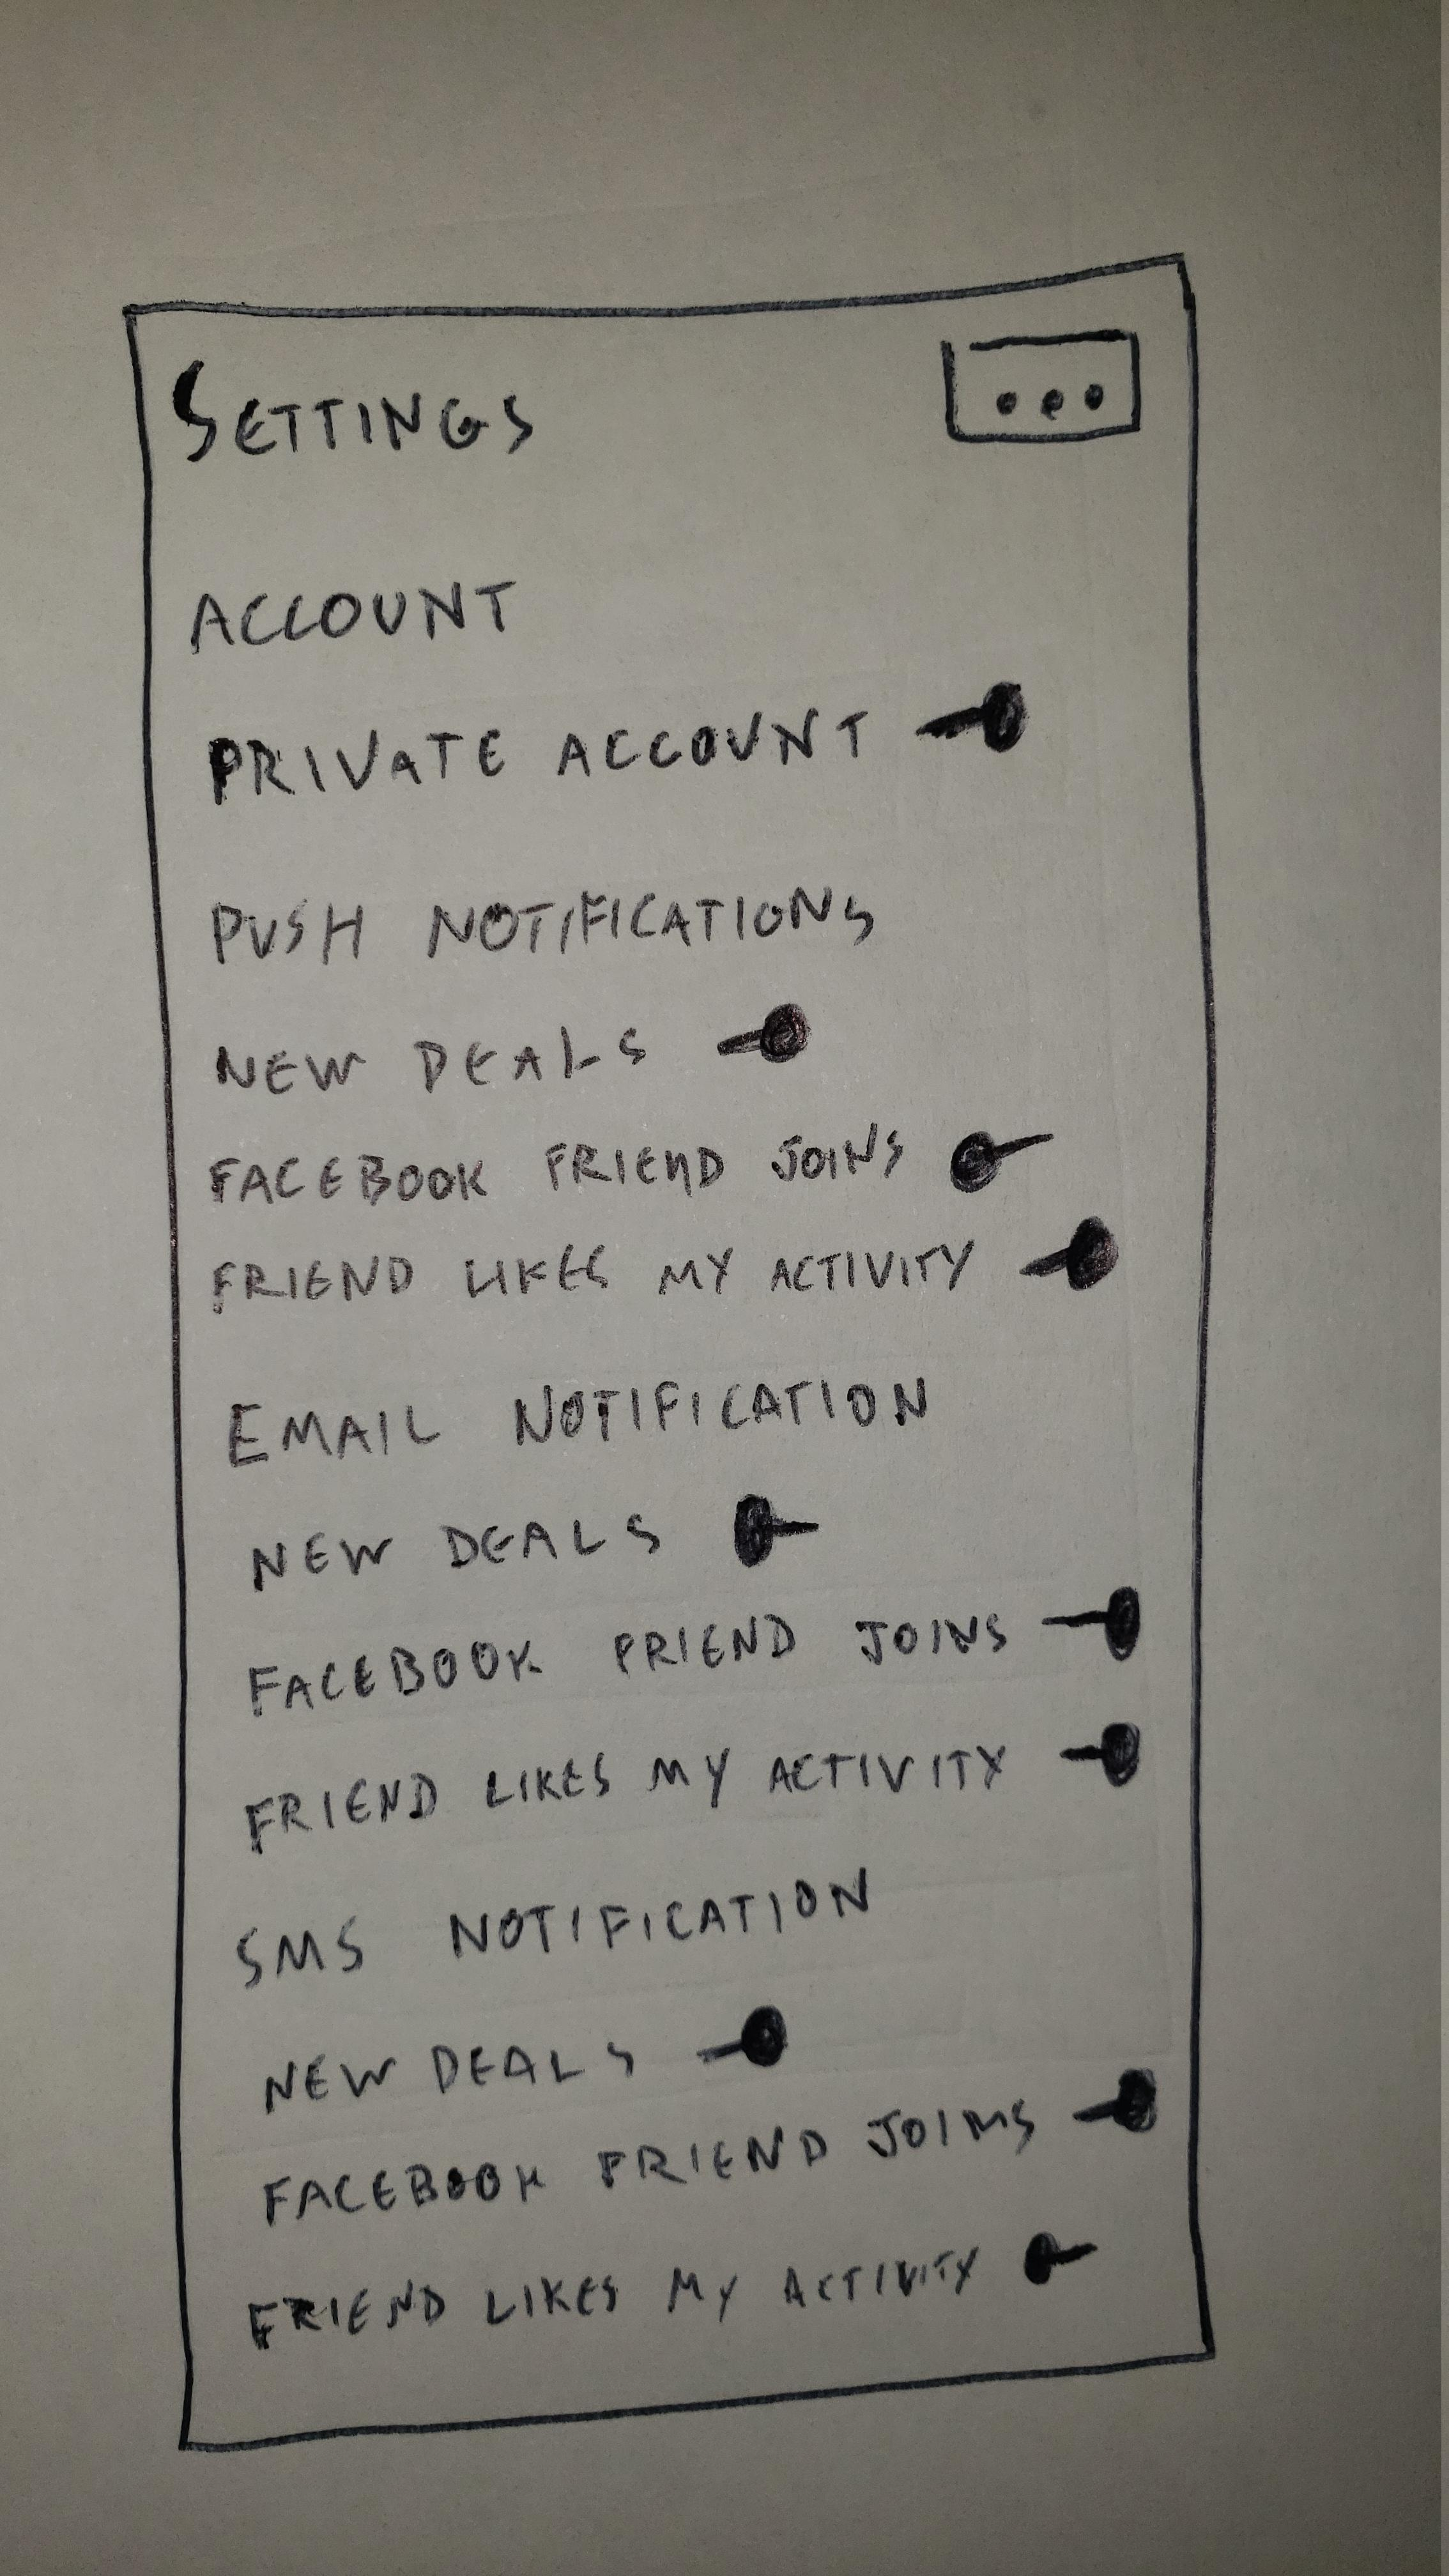Button: (937, 328, 1143, 442)
Label: (234, 1869, 870, 1989), (226, 1379, 927, 1468), (208, 885, 873, 963), (169, 360, 536, 462), (188, 582, 514, 654)
Screen: (121, 250, 1216, 2453)
Switch: (263, 2071, 1159, 2225), (245, 1718, 1139, 1855), (247, 1586, 1141, 1716), (206, 682, 1027, 804), (247, 2231, 1095, 2349), (210, 1216, 1117, 1315), (206, 1129, 1057, 1209), (263, 2004, 785, 2113), (249, 1492, 822, 1592), (215, 1005, 809, 1093)
